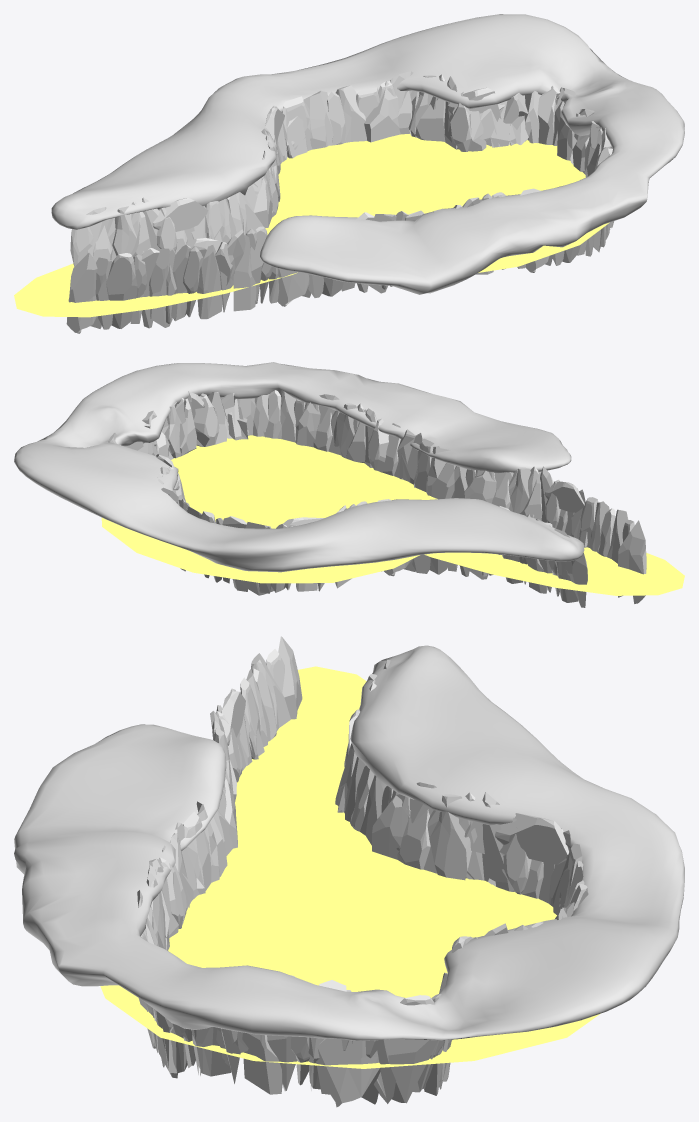
Rendered from Pradera (1).fbx.
3 views of the same model, one above another, from view 1: azimuth 30°, elevation 25°; view 2: azimuth 150°, elevation 25°; view 3: azimuth 270°, elevation 25° (orthographic). The views are drawn at different scales.
Visible parts, largest first — view 1: 17.004, 17.003, Plane, Plane.001; view 2: 17.004, 17.003, Plane, Plane.001; view 3: 17.004, 17.003, Plane, Plane.001.
Part boxes in pixels (x1,y1,x2,y2): 17.004: (51, 14, 684, 294); 17.003: (66, 71, 614, 333); Plane: (265, 134, 609, 272); Plane.001: (14, 263, 297, 317); 17.004: (14, 362, 584, 572); 17.003: (108, 390, 646, 607); Plane: (101, 435, 437, 583); Plane.001: (424, 547, 684, 595); 17.004: (14, 645, 684, 1040); 17.003: (137, 636, 588, 1107); Plane: (100, 834, 600, 1068); Plane.001: (235, 666, 395, 895).
Size of the model in its own units: 7776 by 1191 by 4991.
